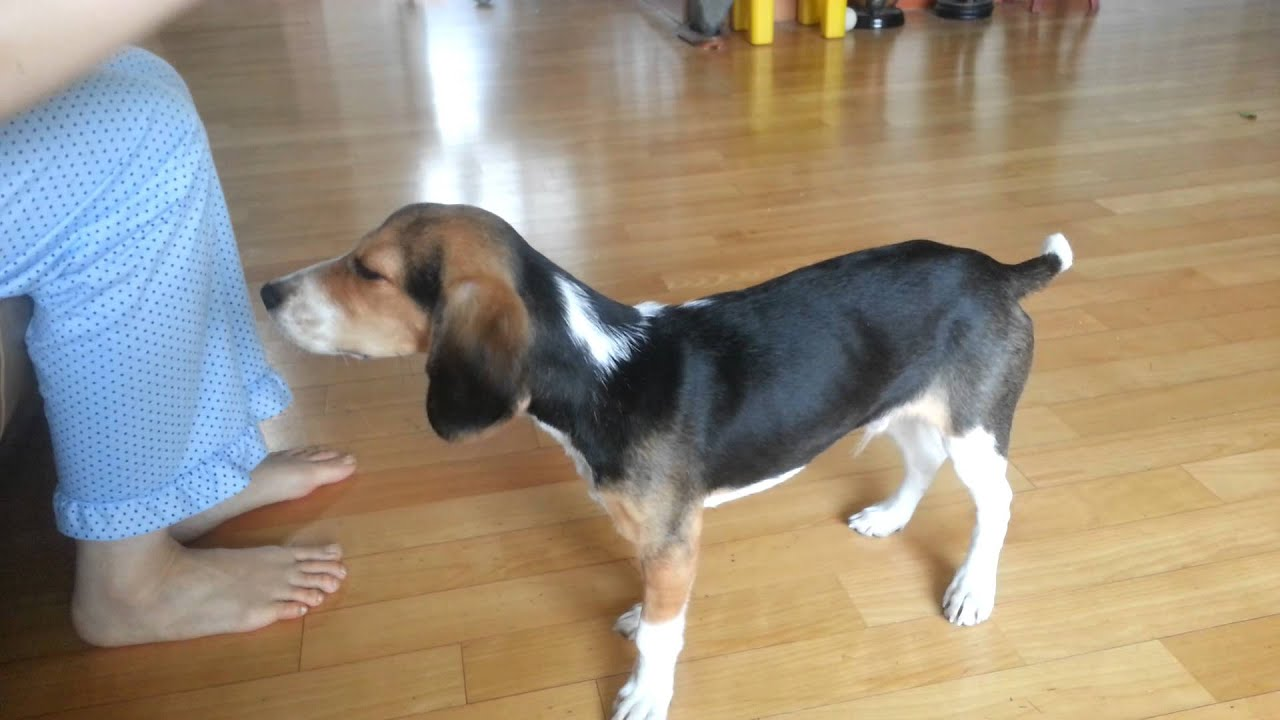dog: (267, 196, 1101, 720)
human: (1, 1, 383, 601)
